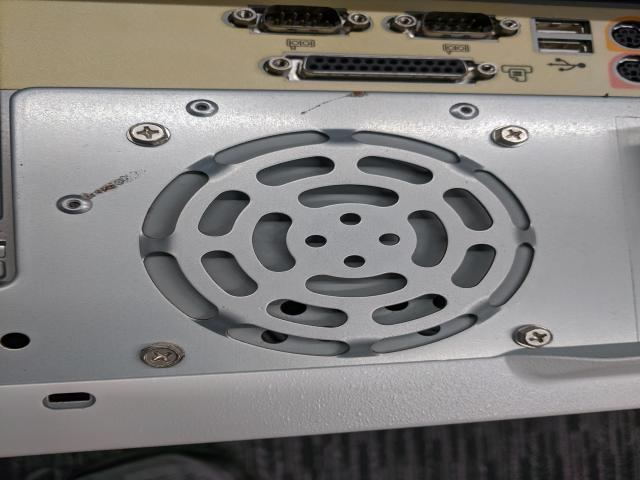CRS: (140, 342, 182, 369), (124, 122, 171, 146), (489, 124, 528, 146), (516, 325, 550, 347)
